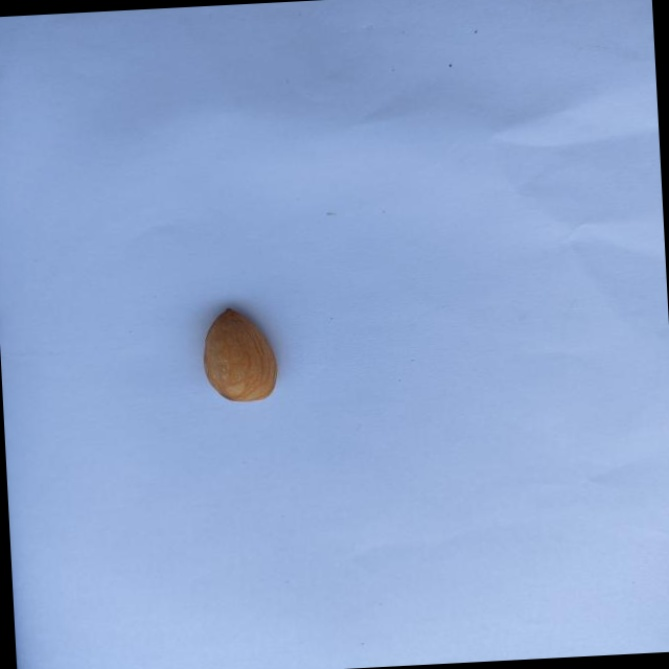grade2: (198, 303, 286, 407)
